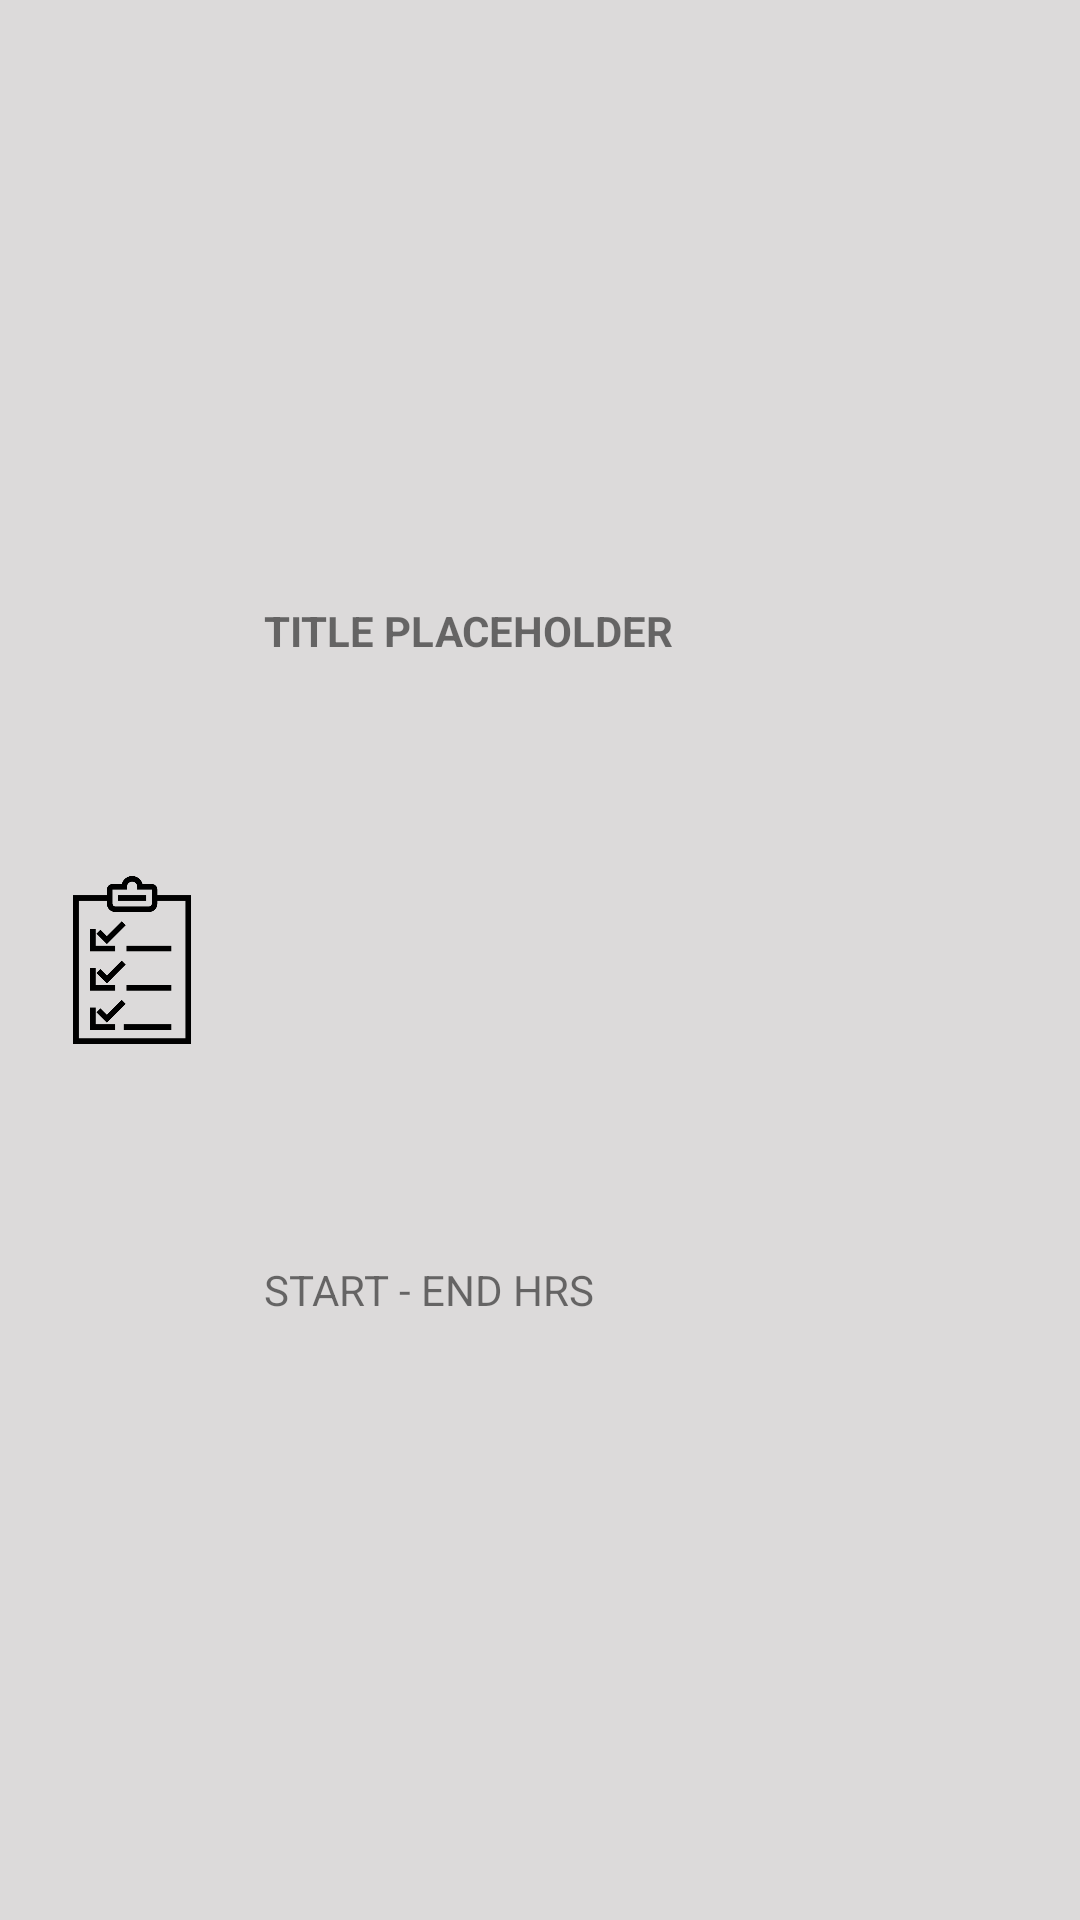

Icons on this 1080px x 1920px Android screen, each with the point to tap as [x,y]:
task: [132,960]
